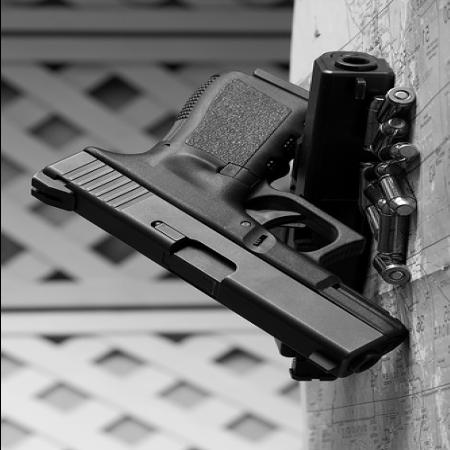Pistol: (28, 68, 408, 376), (272, 48, 390, 382)
